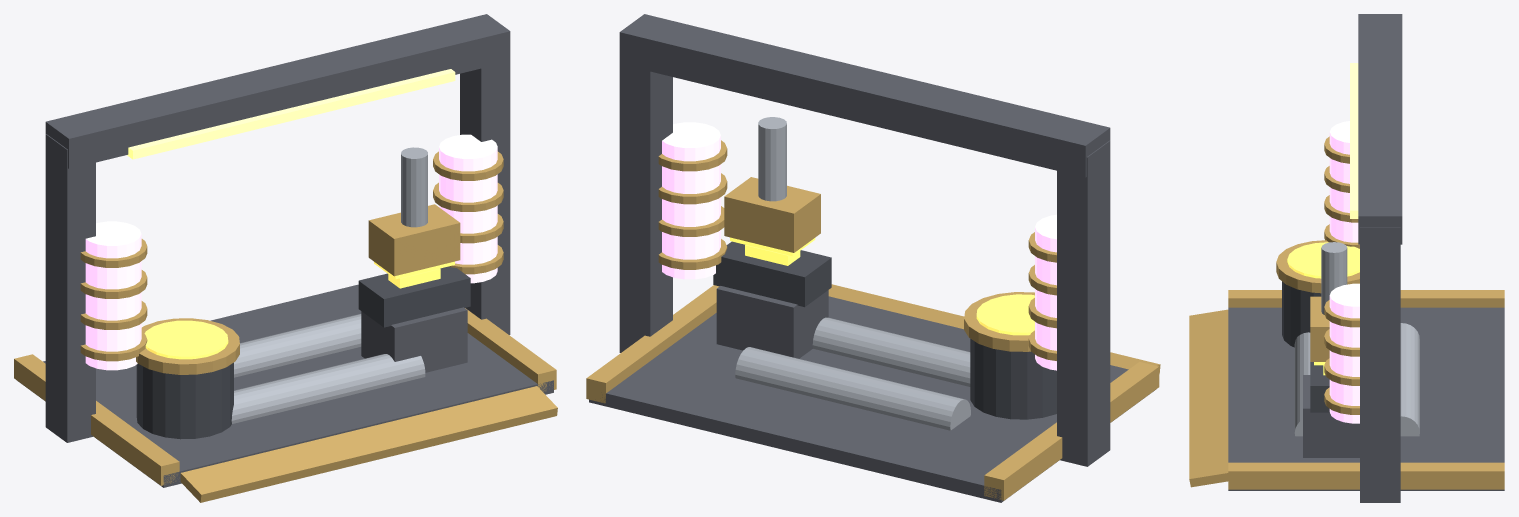
Rendered from node_upgrade_forge.glb.
The picture shows the model from 3 angles, left to right: view 1: azimuth 30°, elevation 25°; view 2: azimuth 150°, elevation 25°; view 3: azimuth 270°, elevation 25°; orthographic projection. The views are drawn at different scales.
Visible parts, largest first — view 1: ForgeTopBridge, DynoDeckBase, DynoRampFront, ForgePillar_L, ForgePillar_R, CrucibleVat, DynoRollerFront, ForgeCoilL, ForgeCoilR, AnvilPedestal, HammerHeadBlock, ForgeTopStrip (+13 smaller); view 2: DynoDeckBase, ForgeTopBridge, ForgePillar_L, ForgePillar_R, DynoRollerRear, ForgeCoilR, AnvilPedestal, DynoRollerFront, CrucibleVat, HammerHeadBlock, AnvilBlock, DynoCurbL (+10 smaller); view 3: DynoDeckBase, ForgePillar_R, ForgeTopBridge, DynoRampFront, DynoCurbR, ForgeCoilR, DynoCurbL, AnvilPedestal, DynoRollerRear, ForgeCoilL, CrucibleVat, ForgeTopStrip (+10 smaller).
Part boxes in pixels (box(x1,y1,x2,y2)): ForgeTopBridge: box(45, 14, 510, 168); DynoDeckBase: box(18, 284, 553, 487); DynoRampFront: box(180, 386, 557, 502); ForgePillar_L: box(45, 134, 95, 442); ForgePillar_R: box(460, 61, 510, 334); CrucibleVat: box(136, 362, 233, 439); DynoRollerFront: box(231, 354, 425, 423); ForgeCoilL: box(85, 221, 141, 370); ForgeCoilR: box(439, 134, 497, 283); AnvilPedestal: box(361, 307, 467, 372); HammerHeadBlock: box(368, 204, 460, 276); ForgeTopStrip: box(127, 69, 455, 159); DynoDeckBase: box(589, 296, 1154, 502); ForgeTopBridge: box(619, 14, 1110, 177); ForgePillar_L: box(1057, 140, 1110, 466); ForgePillar_R: box(619, 64, 672, 352); DynoRollerRear: box(735, 347, 970, 430); ForgeCoilR: box(662, 122, 720, 279); AnvilPedestal: box(716, 286, 828, 358); DynoRollerFront: box(812, 317, 970, 386); CrucibleVat: box(970, 339, 1056, 419); HammerHeadBlock: box(724, 177, 820, 252); AnvilBlock: box(713, 241, 831, 307); DynoCurbL: box(984, 362, 1159, 500); DynoDeckBase: box(1228, 307, 1504, 490); ForgePillar_R: box(1360, 227, 1400, 502); ForgeTopBridge: box(1358, 14, 1402, 244); DynoRampFront: box(1189, 309, 1228, 487); DynoCurbR: box(1228, 462, 1504, 489); ForgeCoilR: box(1329, 283, 1359, 423); DynoCurbL: box(1228, 290, 1504, 307); AnvilPedestal: box(1303, 375, 1359, 457); DynoRollerRear: box(1400, 323, 1419, 436); ForgeCoilL: box(1329, 121, 1358, 242); CrucibleVat: box(1282, 281, 1321, 347); ForgeTopStrip: box(1350, 63, 1358, 218).
Bounding box in the file's own units: 5.22 × 3.48 × 3.43.
